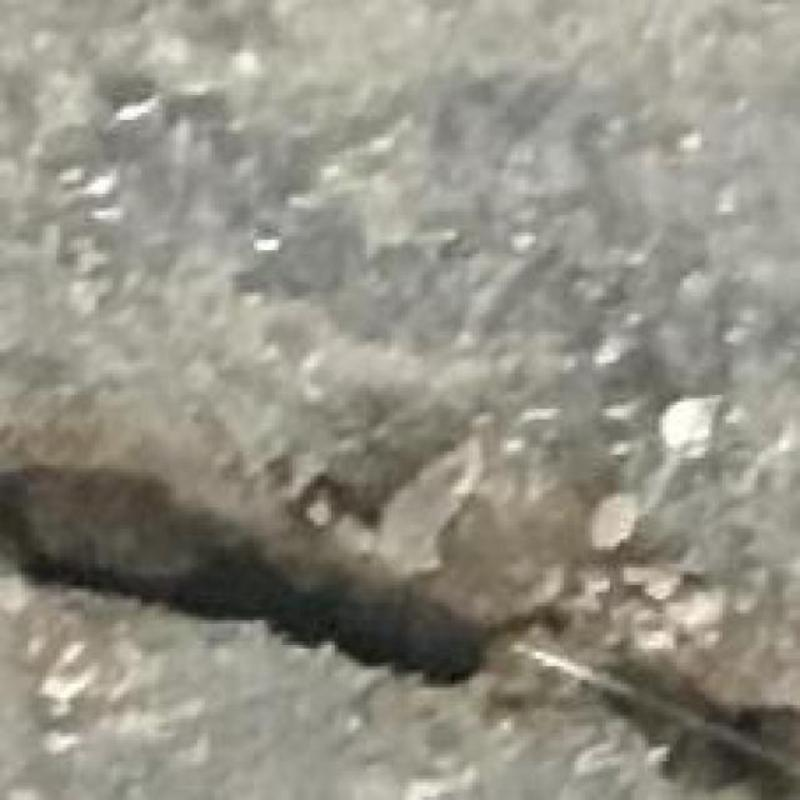pothole: (0, 465, 799, 799)
